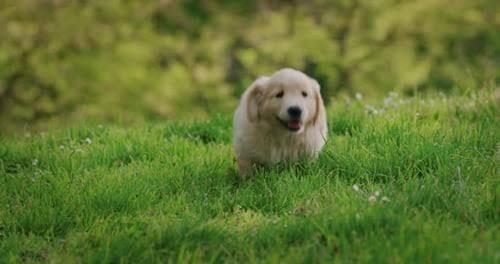puppy-dog: (232, 67, 328, 185)
